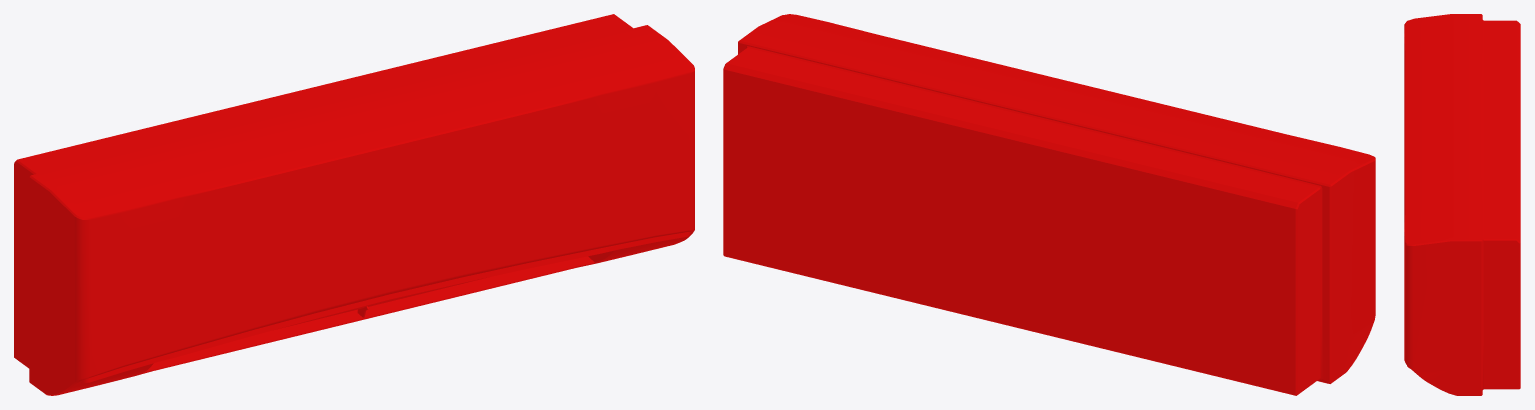
File: SM_air_conditioner_01_body.glb
3 renders of one model, left to right at view 1: azimuth 30°, elevation 25°; view 2: azimuth 150°, elevation 25°; view 3: azimuth 270°, elevation 25°, orthographic. The views are drawn at different scales.
Visible parts, largest first — view 1: SM_air_conditioner_01_body_LOD0; view 2: SM_air_conditioner_01_body_LOD0; view 3: SM_air_conditioner_01_body_LOD0.
Boxes of the visible parts, x1,y1,x2,y2 form: SM_air_conditioner_01_body_LOD0: (14,14,694,395); SM_air_conditioner_01_body_LOD0: (723,14,1375,395); SM_air_conditioner_01_body_LOD0: (1404,14,1520,395).
Size of what is drawn, in the model's own units: 0.921 by 0.295 by 0.199.
